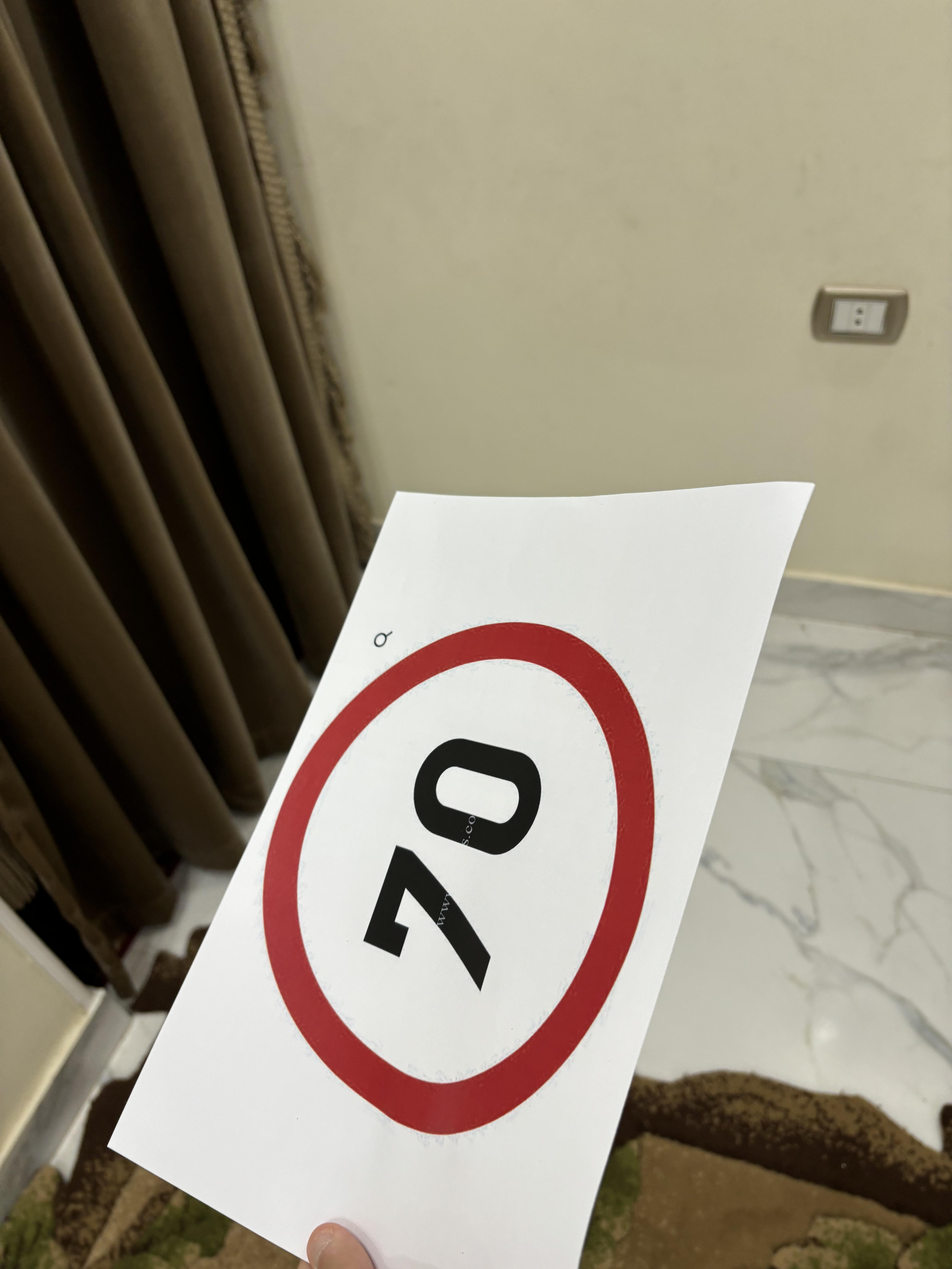70-Speed: (262, 611, 660, 1142)
